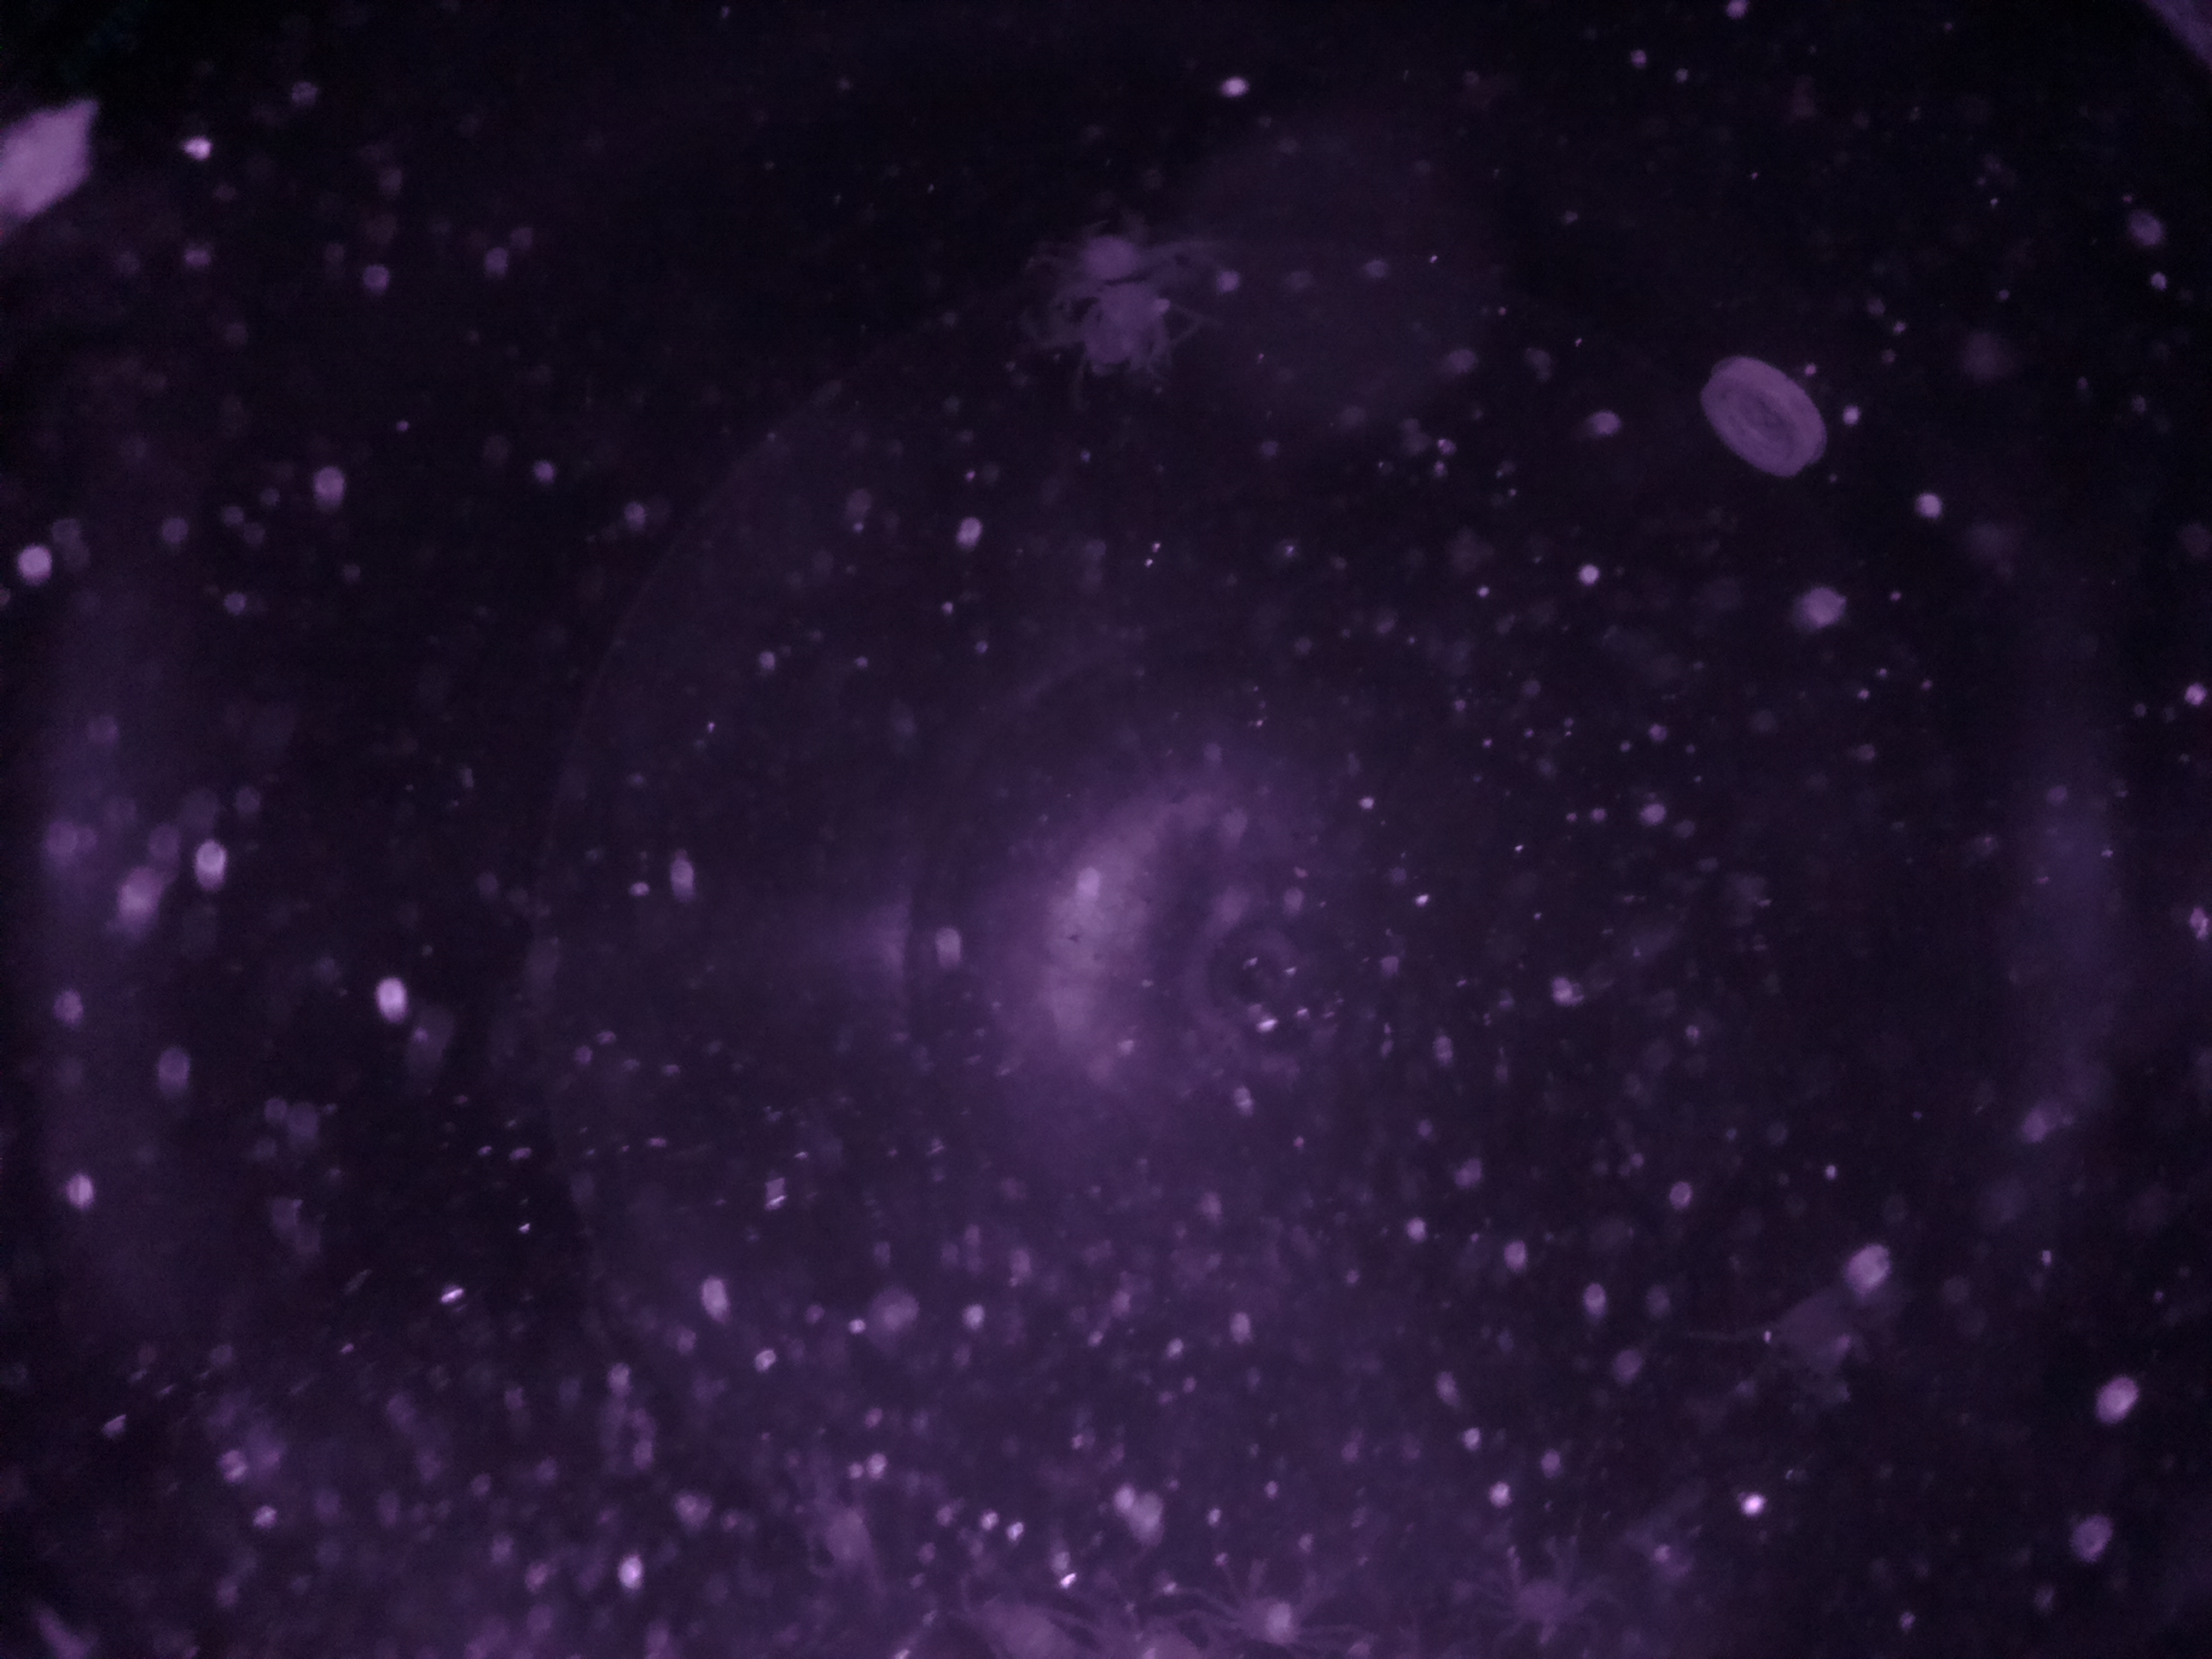Crab: (1472, 1518, 1594, 1649), (1221, 1537, 1339, 1659)
